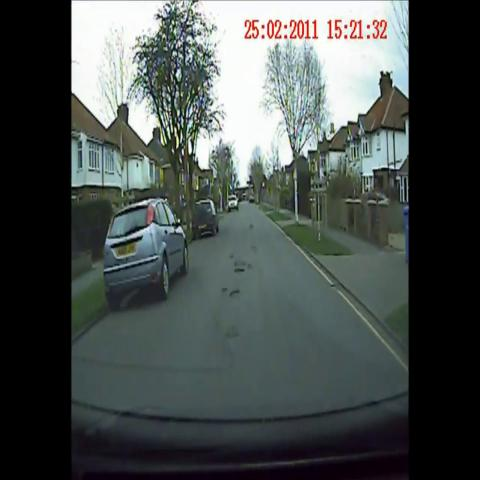pothole: (226, 240, 256, 276), (219, 274, 246, 306), (221, 316, 243, 344), (247, 219, 257, 238)
